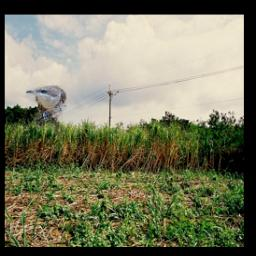Cuckoo: (25, 86, 65, 140)
